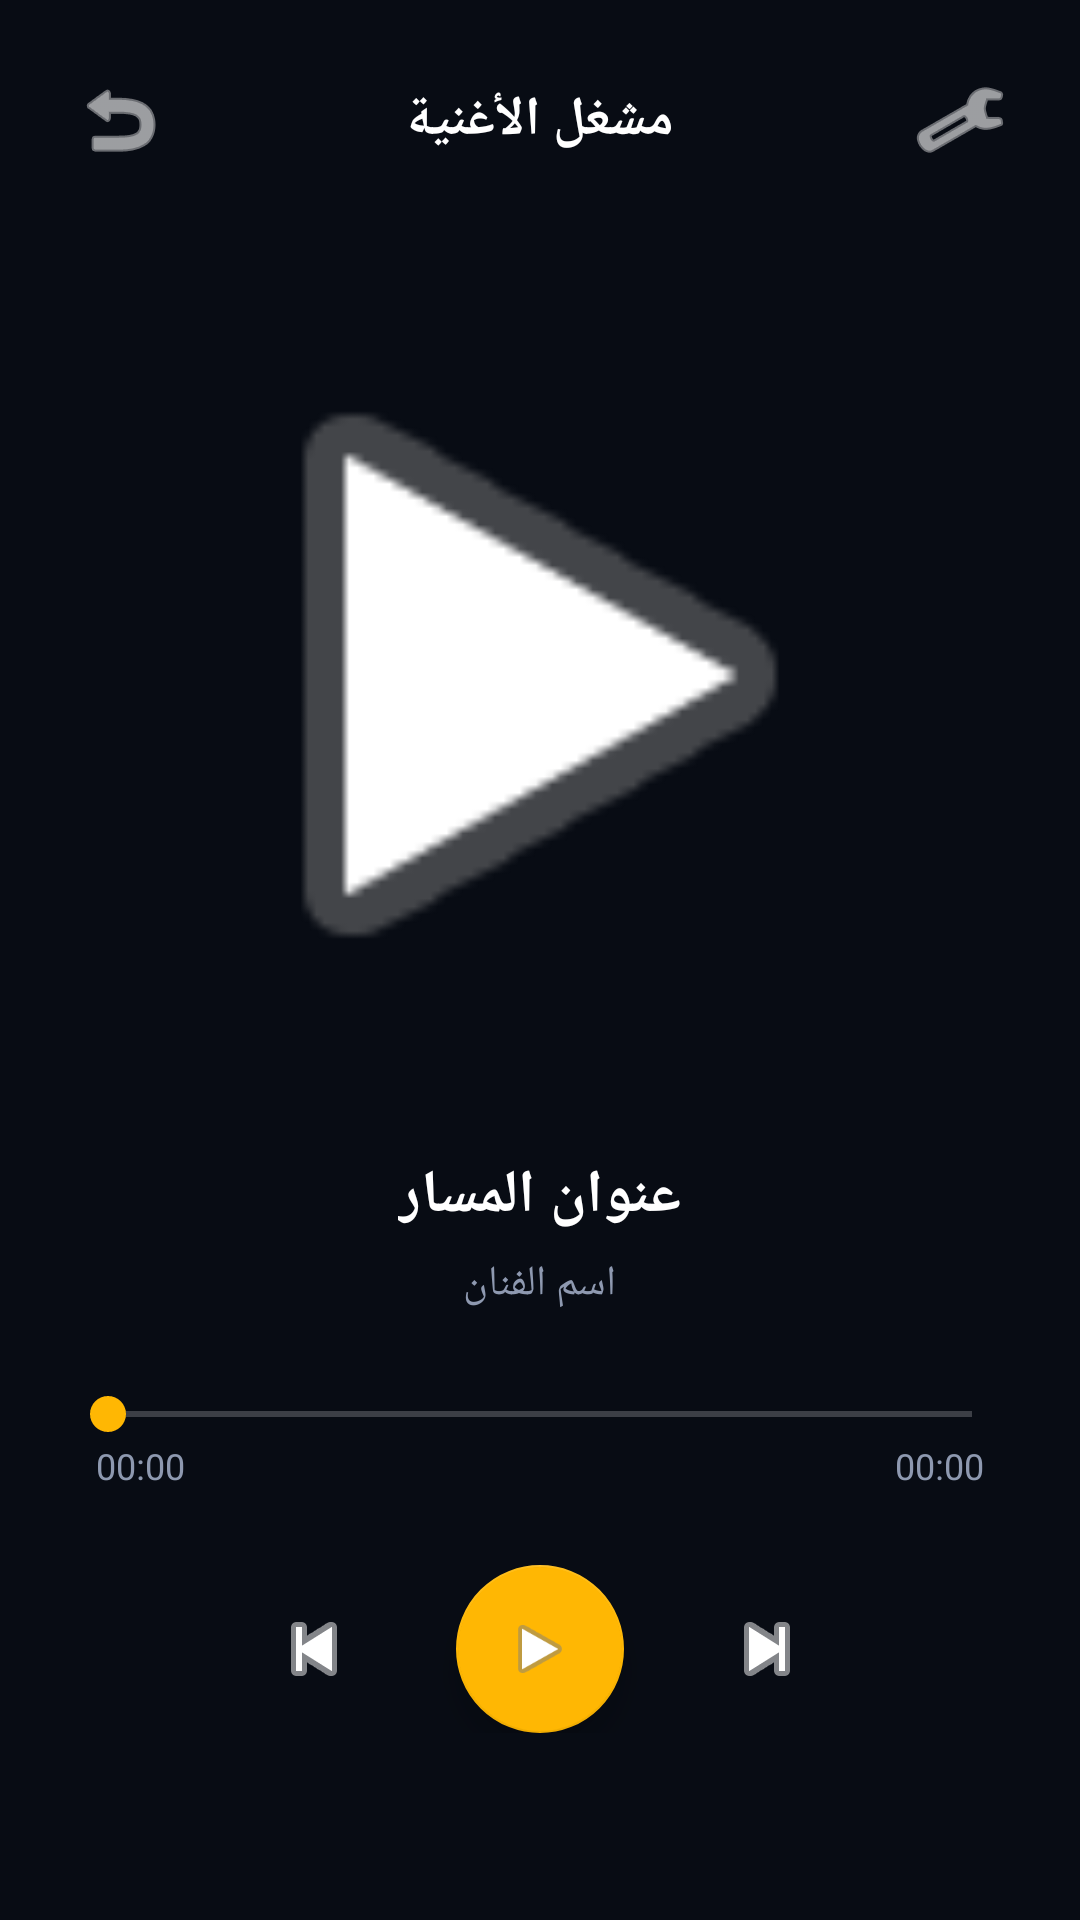

Screen size 1080w x 1920h. Icon name, then its box in pixels as (x1, y1, x2, y2):
next: (744, 1622, 790, 1676)
preferences: (917, 87, 1003, 153)
previous: (291, 1622, 337, 1676)
revert: (87, 89, 156, 152)
